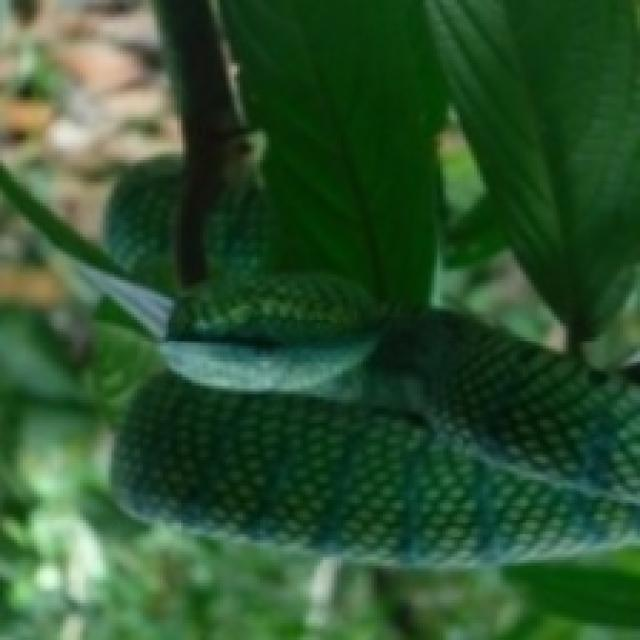north ph temple pitviper: (111, 274, 637, 557)
